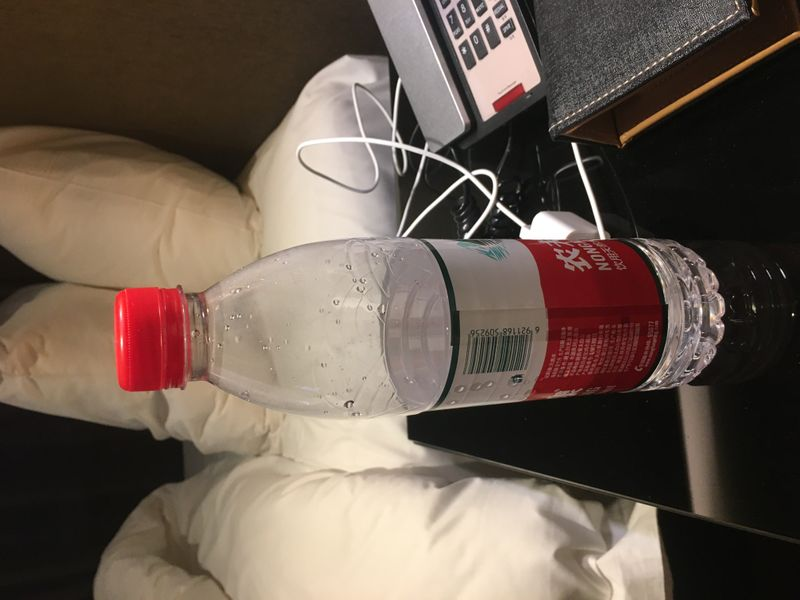5eca67a90202601e8cb8d104: (108, 237, 730, 413)
